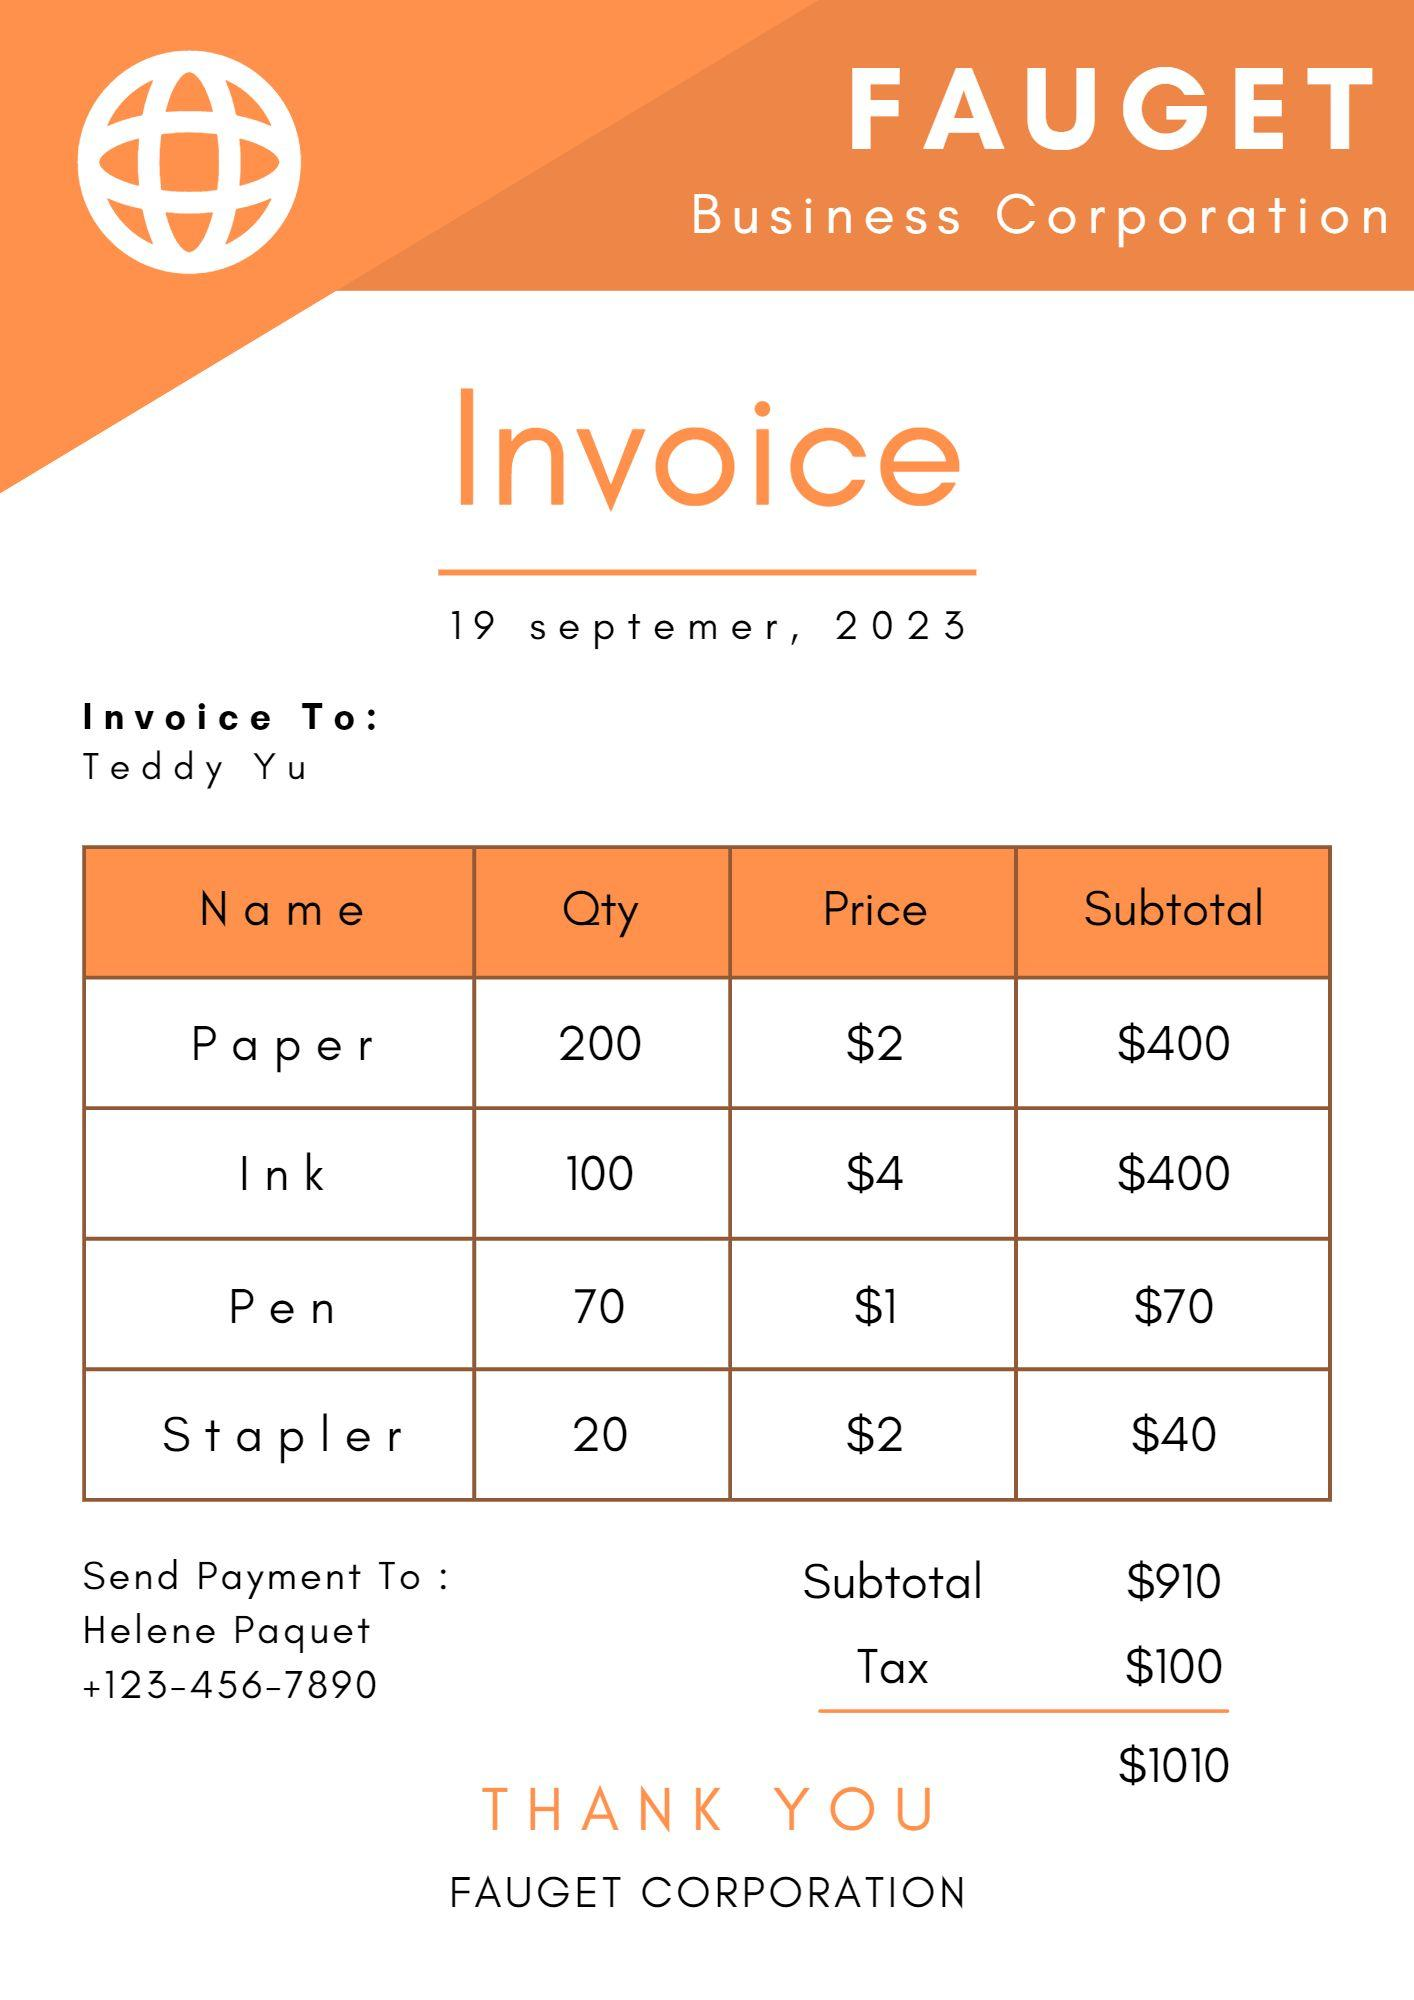ROI: (72, 842, 1344, 1510)
